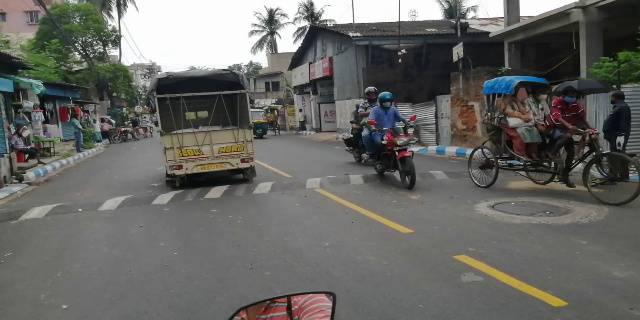Autorickshaw: (246, 107, 273, 140)
Minitruck: (147, 67, 262, 189)
Motorbike: (360, 91, 429, 188)
Rickshaw: (459, 66, 640, 215)
